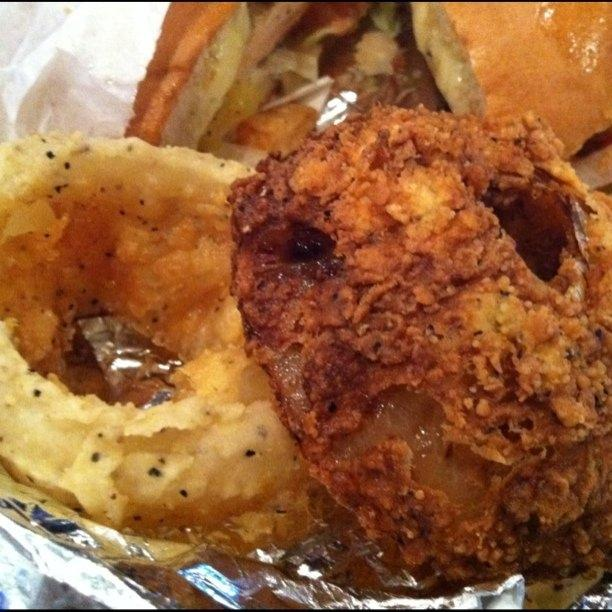onion: (226, 100, 612, 584), (0, 133, 318, 532), (158, 0, 252, 150), (197, 66, 281, 154)
